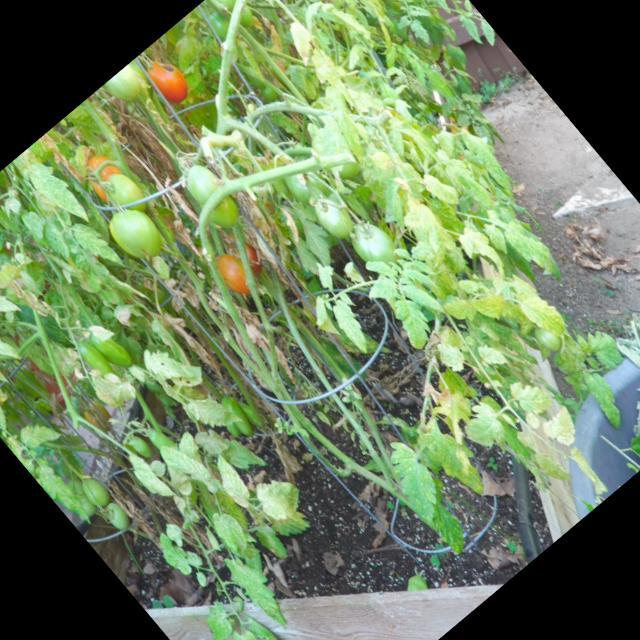Tomato spider mites leaf: (372, 434, 460, 530), (410, 412, 498, 505), (217, 544, 301, 636), (306, 80, 386, 164), (19, 152, 95, 235), (26, 452, 98, 534), (454, 120, 526, 200), (498, 211, 570, 290), (152, 428, 224, 506), (395, 200, 462, 270), (514, 284, 578, 352), (572, 361, 635, 429), (247, 464, 311, 528), (183, 380, 246, 444), (381, 289, 443, 354), (438, 152, 499, 218), (66, 213, 126, 279), (136, 333, 197, 397), (120, 444, 180, 508), (454, 395, 514, 457), (146, 520, 206, 582), (322, 293, 380, 357), (572, 317, 630, 377), (202, 450, 258, 511), (559, 442, 613, 502), (204, 503, 257, 560), (536, 399, 590, 454), (504, 368, 557, 422), (88, 364, 140, 416), (276, 15, 326, 67), (466, 278, 516, 329), (15, 409, 64, 459), (418, 165, 463, 214), (192, 597, 242, 640), (532, 444, 575, 491), (430, 334, 471, 376), (472, 334, 512, 374), (221, 620, 298, 640), (478, 216, 516, 256), (440, 290, 479, 328), (0, 322, 23, 371)
